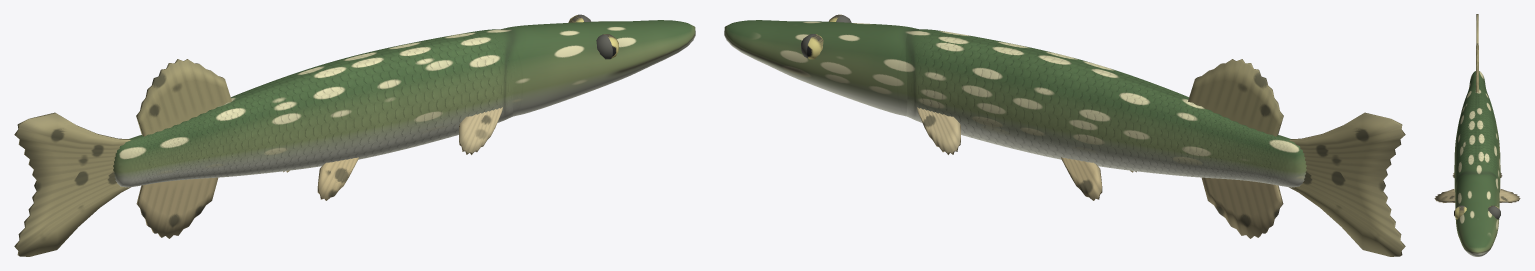
The model's file is fish_pike.fbx.
3 views of the same model, side by side, from view 1: azimuth 30°, elevation 25°; view 2: azimuth 150°, elevation 25°; view 3: azimuth 270°, elevation 25° (orthographic). The views are drawn at different scales.
Visible parts, largest first — view 1: fish_pike; view 2: fish_pike; view 3: fish_pike.
Boxes of the visible parts, <box> form: fish_pike: <box>14,14,695,256</box>; fish_pike: <box>724,14,1405,256</box>; fish_pike: <box>1434,14,1520,256</box>.
Size of the model in its own units: 69.79 by 17.28 by 12.8.
1 material, 1 textured.
